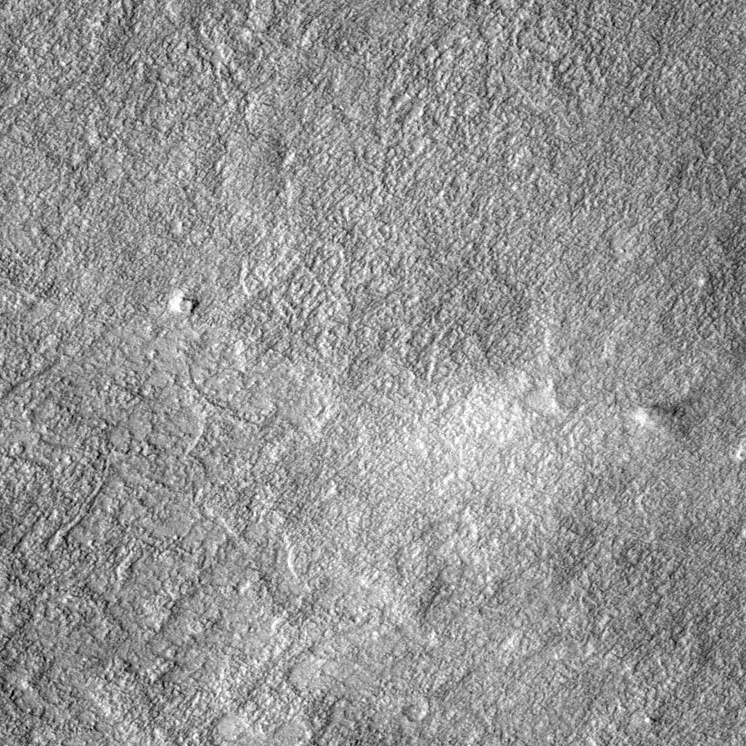dust_devil: (629, 399, 681, 436)
